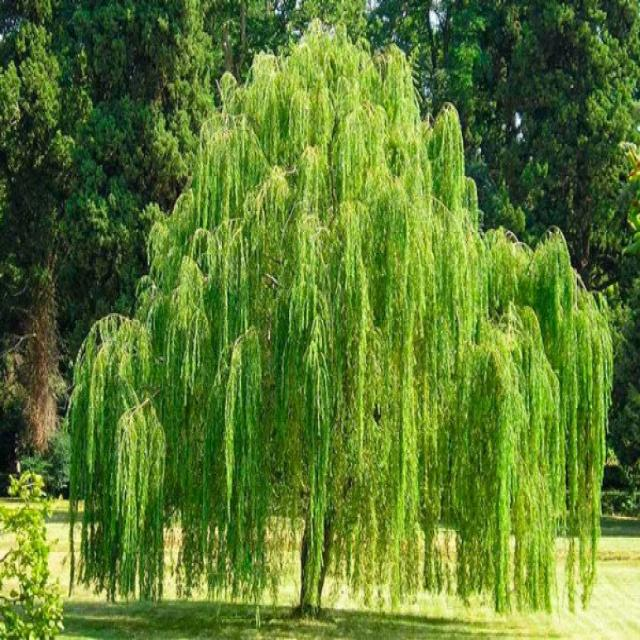cauce: (66, 19, 615, 622)
